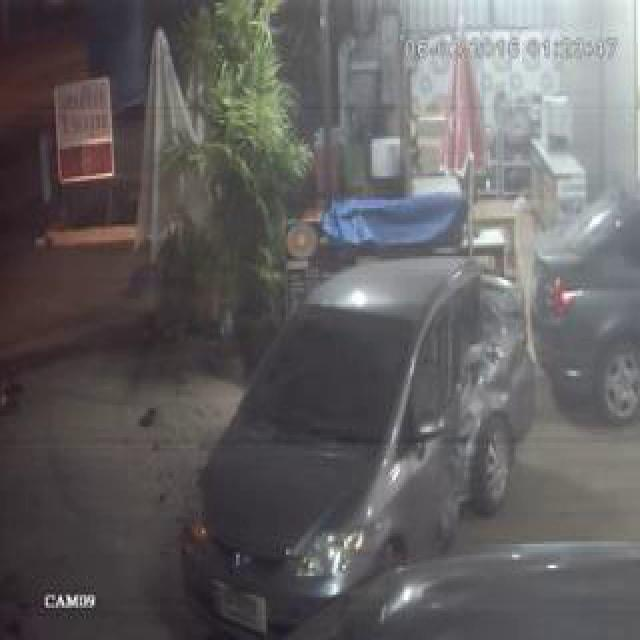road accidents: (204, 103, 572, 640)
